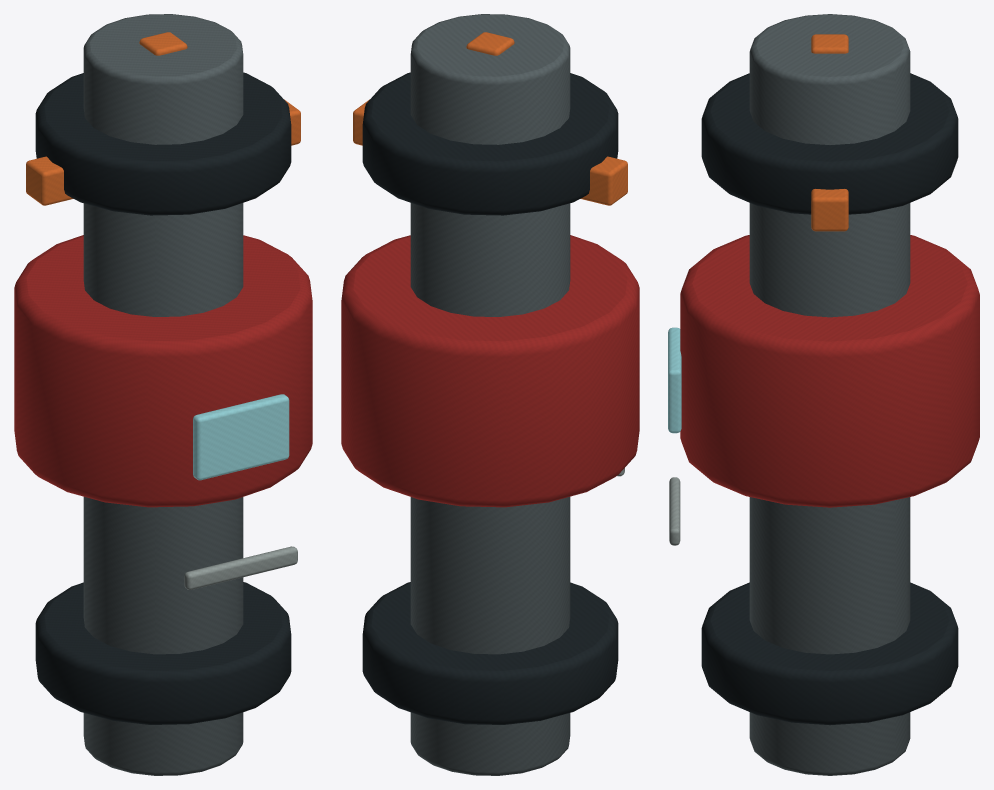
The model's file is PipeValve.glb.
3 renders of one model, left to right at view 1: azimuth 30°, elevation 25°; view 2: azimuth 150°, elevation 25°; view 3: azimuth 270°, elevation 25°, orthographic.
Visible parts, largest first — view 1: PipeValve_Mesh; view 2: PipeValve_Mesh; view 3: PipeValve_Mesh.
Part boxes in pixels (x1,y1,x2,y2): PipeValve_Mesh: (14, 14, 312, 775); PipeValve_Mesh: (341, 14, 639, 775); PipeValve_Mesh: (668, 14, 979, 775).
Bounding box in the file's own units: 0.56 × 1.45 × 0.5825.
Materials: 6 (6 with a texture image).
